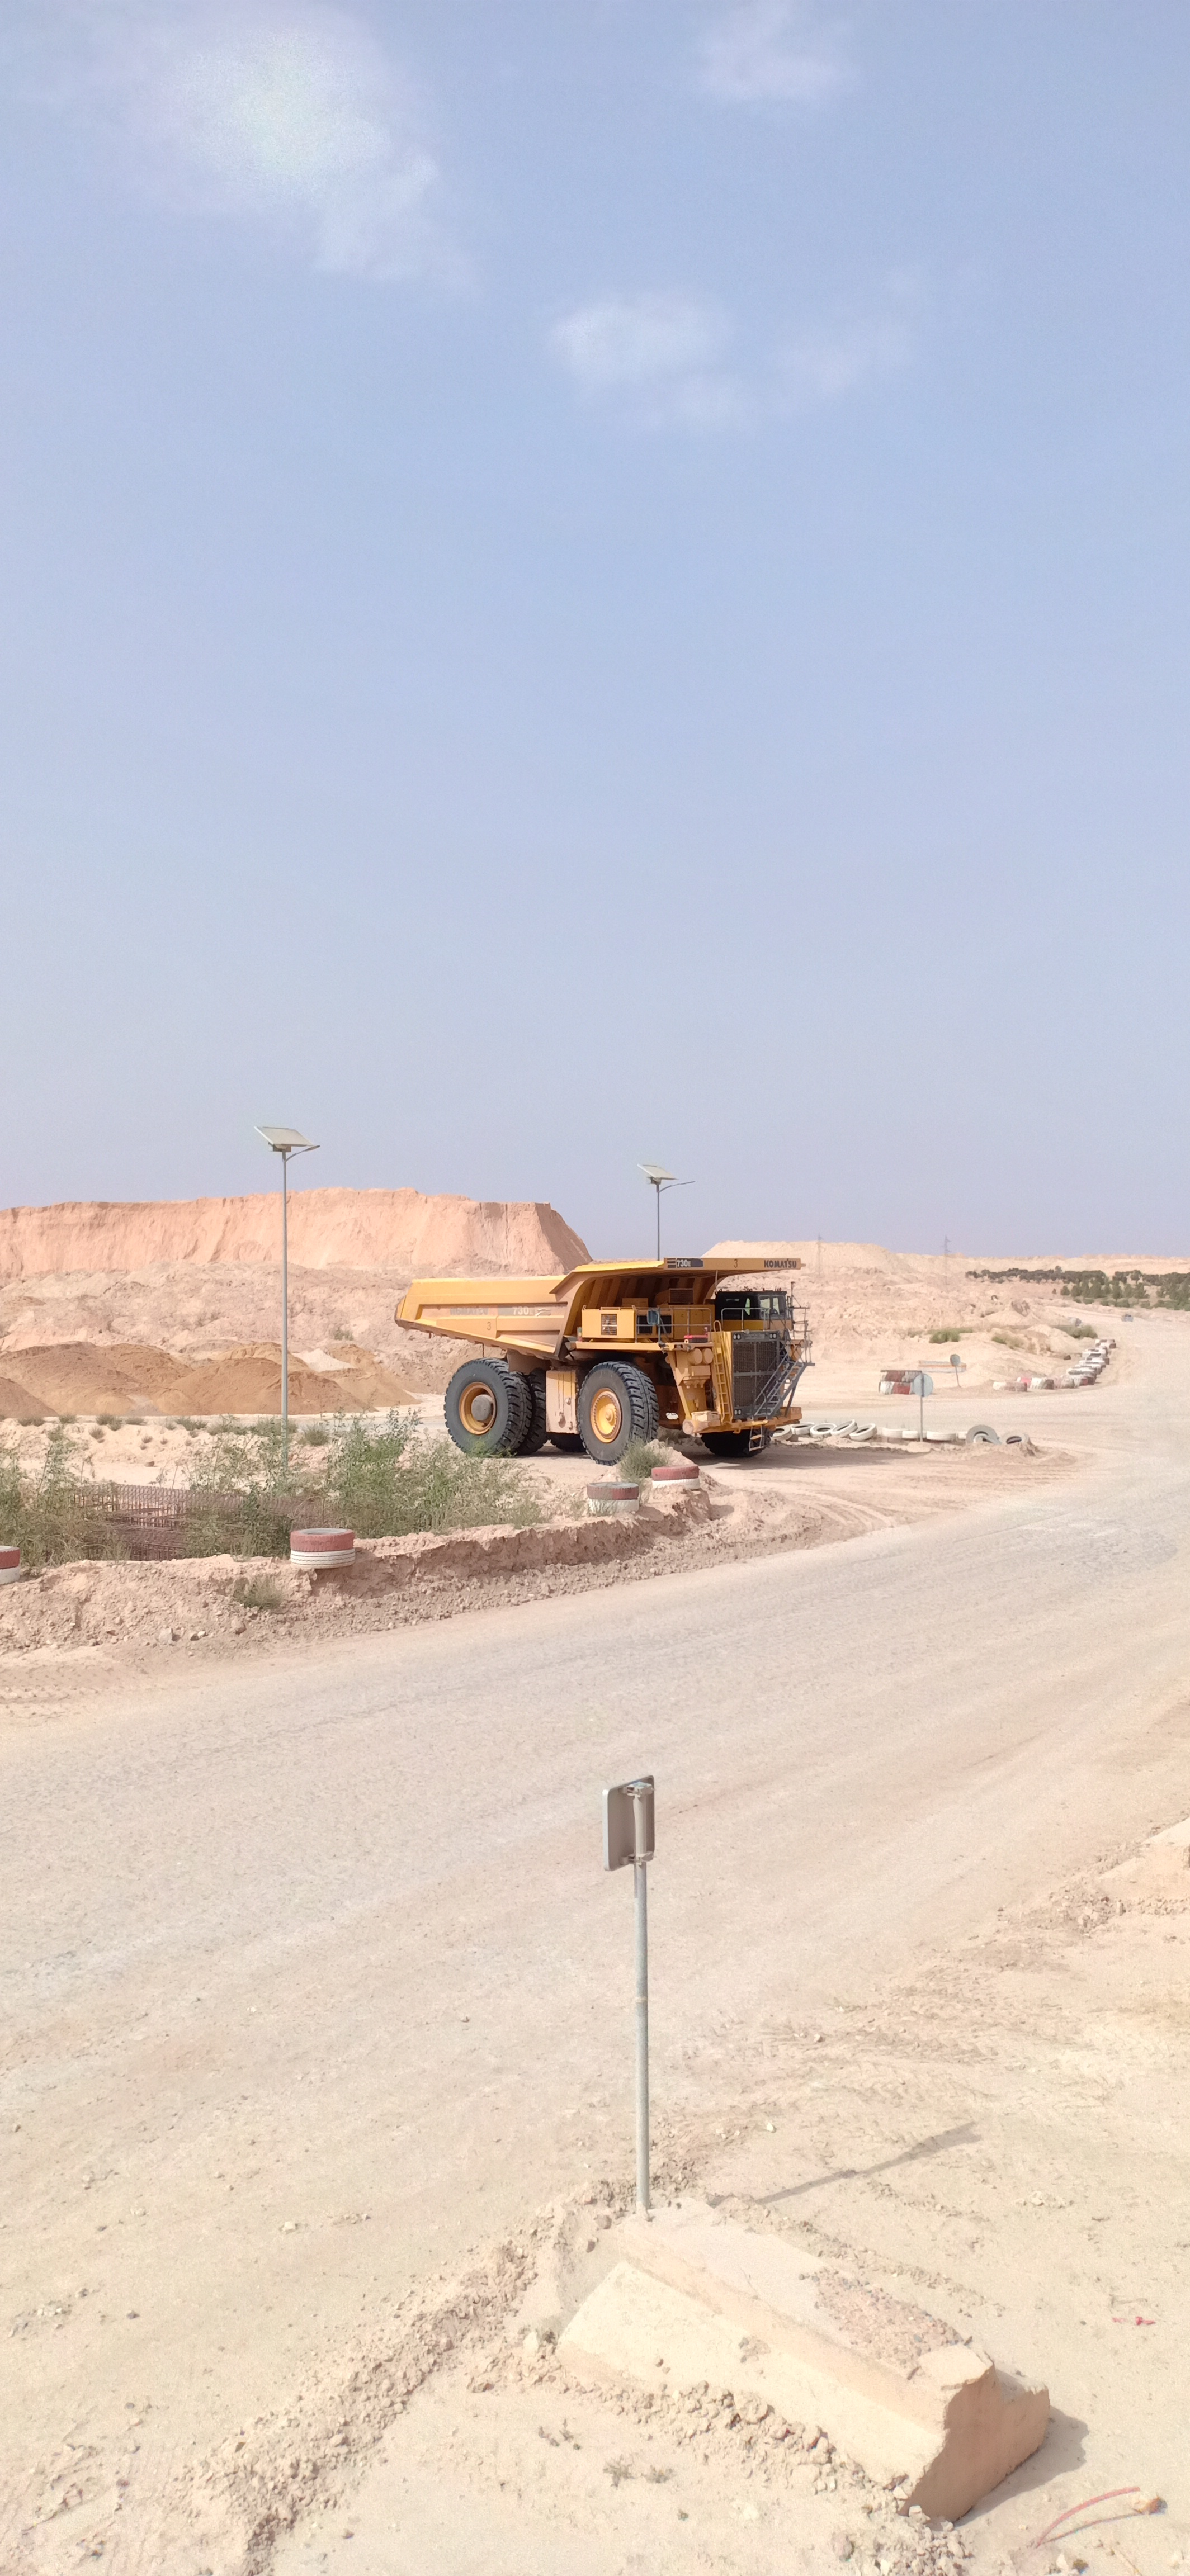camion: (398, 1229, 814, 1485)
